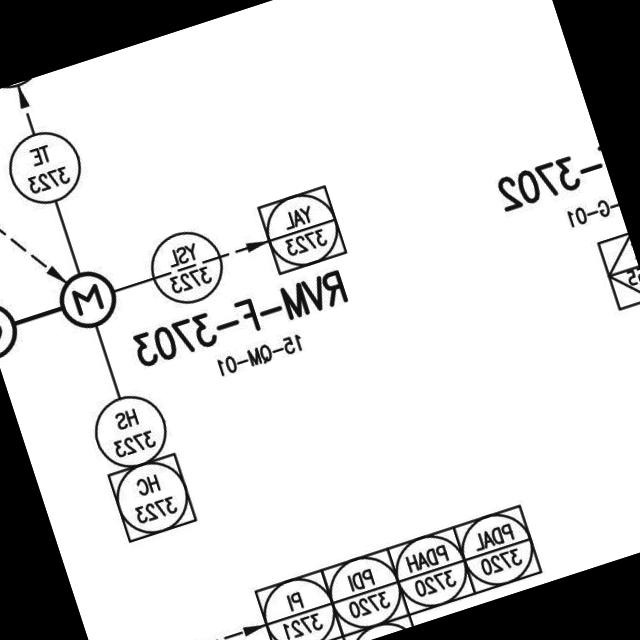M: (52, 260, 124, 334)
